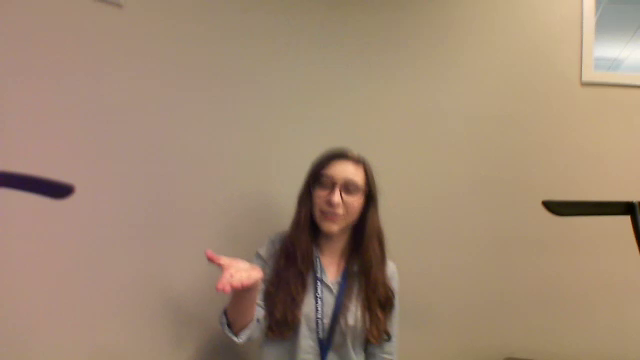land: (198, 245, 272, 296)
